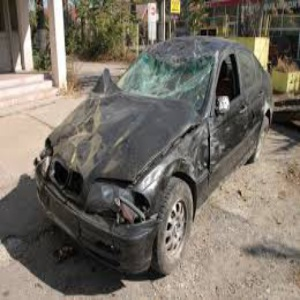bonnet: (63, 98, 160, 180)
bumper: (78, 215, 158, 276)
front_windshield_glass: (126, 56, 206, 98)
